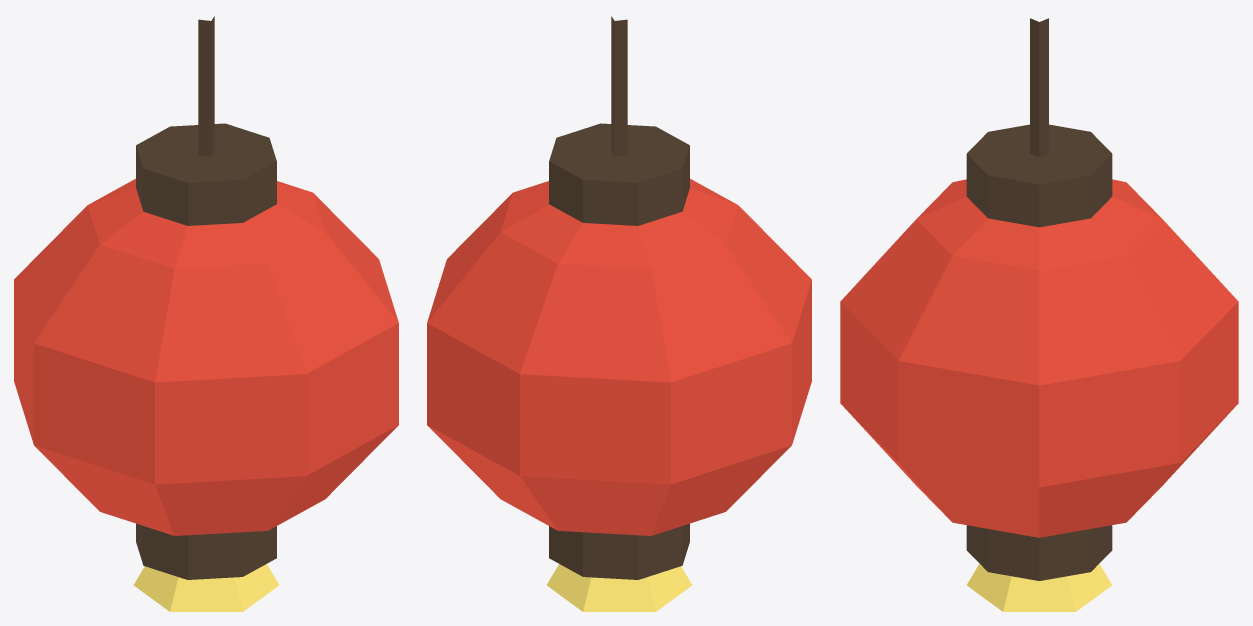
Rendered from lantern-sphere.glb.
The picture shows the model from 3 angles, left to right: view 1: azimuth 30°, elevation 25°; view 2: azimuth 150°, elevation 25°; view 3: azimuth 270°, elevation 25°; orthographic projection.
Parts seen in each view (by area): view 1: lantern-sphere; view 2: lantern-sphere; view 3: lantern-sphere.
Part boxes in pixels (x1=…): lantern-sphere: x1=14, y1=16, x2=398, y2=611; lantern-sphere: x1=427, y1=16, x2=811, y2=611; lantern-sphere: x1=840, y1=18, x2=1238, y2=611.
Bounding box in the file's own units: 0.6681 × 1.05 × 0.6681.
1 material, 1 textured.
